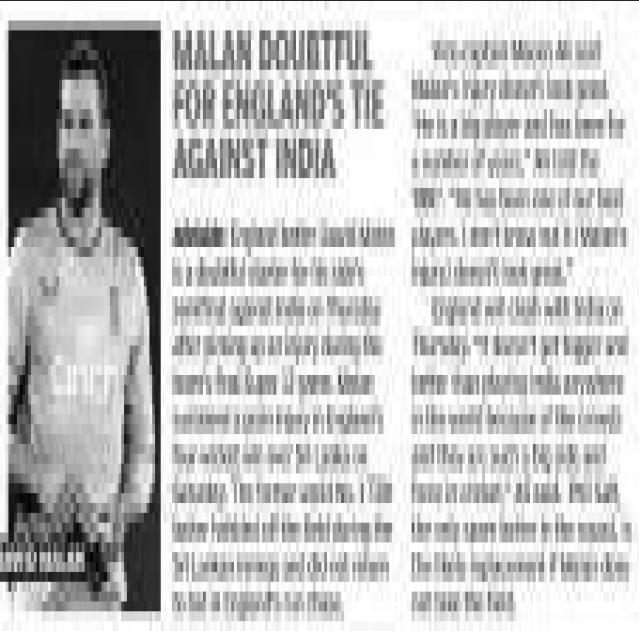paper: (0, 1, 639, 631)
